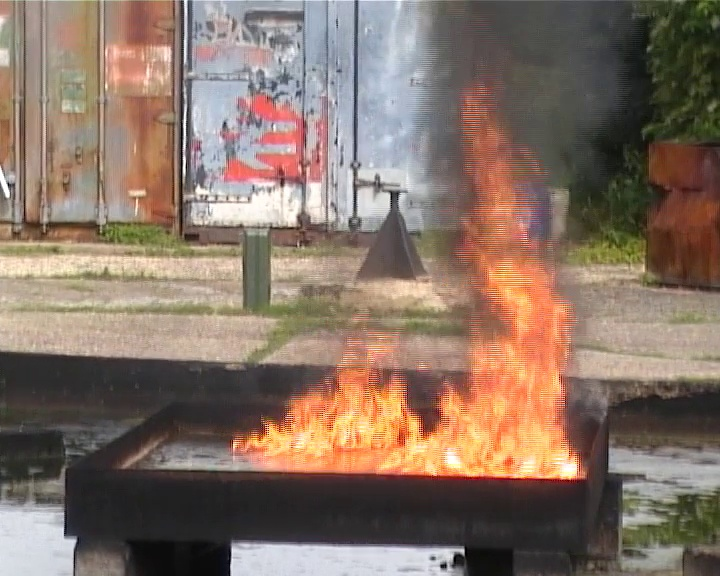fire: (239, 118, 580, 478)
